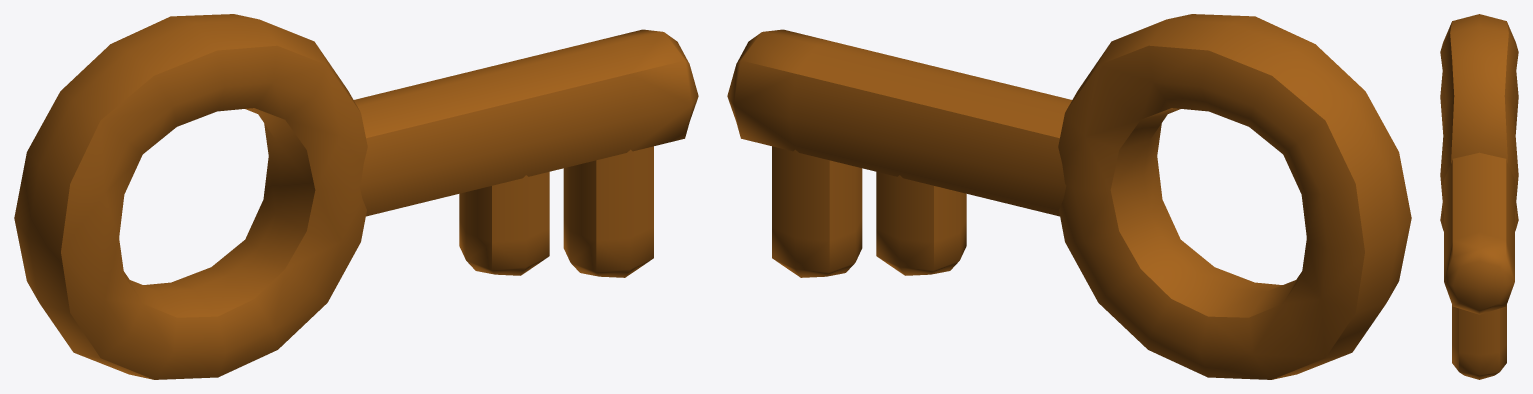
Rendered from Key.fbx.
The picture shows the model from 3 angles, left to right: view 1: azimuth 30°, elevation 25°; view 2: azimuth 150°, elevation 25°; view 3: azimuth 270°, elevation 25°; orthographic projection. The views are drawn at different scales.
Visible parts, largest first — view 1: Key; view 2: Key; view 3: Key.
Boxes of the visible parts, box(x1,y1,x2,y2) form: Key: box(14, 14, 698, 379); Key: box(727, 14, 1411, 379); Key: box(1440, 14, 1518, 379).
Size of the model in its own units: 193 by 98.19 by 31.77.
